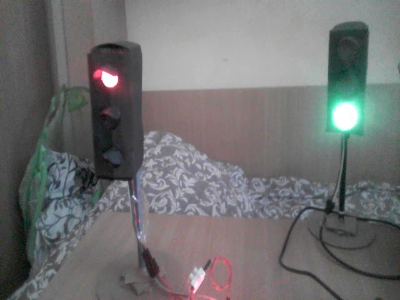trafficlight_green: (329, 28, 365, 132)
trafficlight_red: (90, 44, 137, 176)
